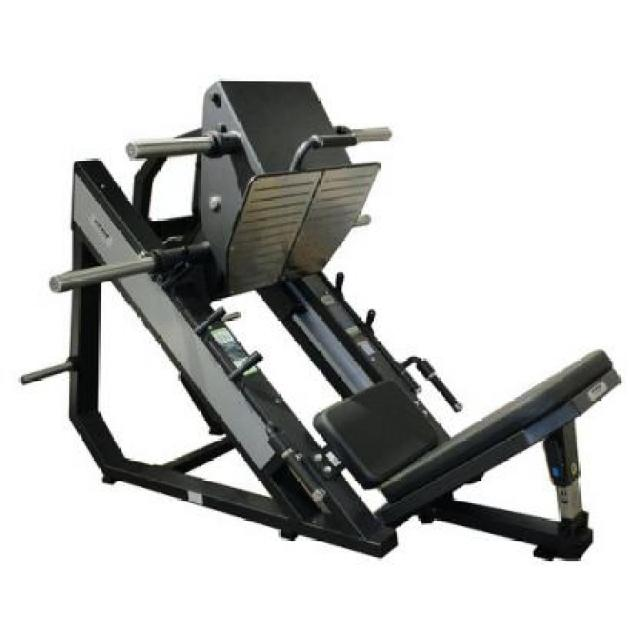leg press: (18, 57, 628, 588)
